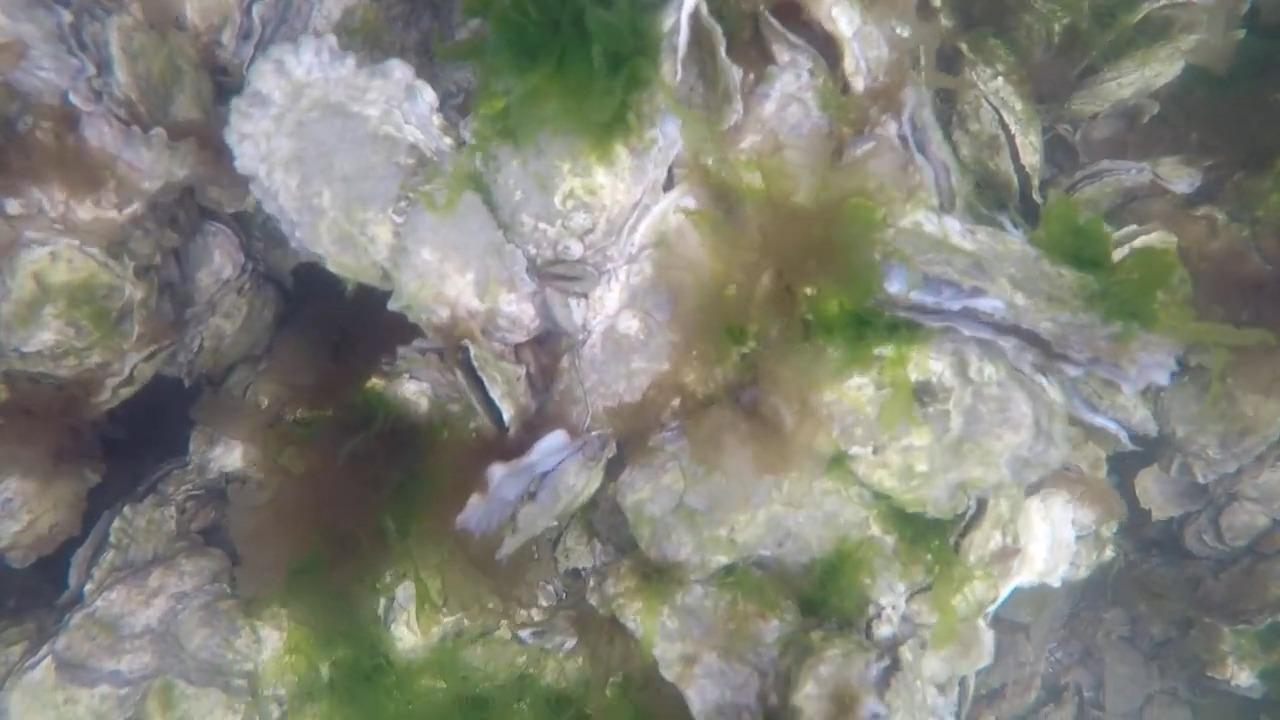Oyster: (223, 43, 529, 336), (221, 26, 464, 298), (870, 252, 1182, 441), (466, 34, 692, 284), (617, 386, 886, 588), (827, 327, 1072, 528), (8, 543, 223, 719), (611, 559, 798, 720), (66, 452, 227, 601), (0, 236, 146, 386), (1141, 340, 1280, 491), (452, 427, 607, 556), (566, 272, 693, 429), (459, 436, 616, 549), (2, 395, 105, 566), (948, 44, 1042, 220), (97, 8, 217, 136), (984, 487, 1098, 608), (609, 434, 707, 562), (1060, 38, 1198, 120), (806, 0, 912, 105), (0, 3, 97, 115), (595, 152, 680, 275), (663, 2, 740, 124), (898, 81, 966, 219), (1137, 0, 1249, 76), (1065, 338, 1190, 405), (227, 204, 314, 299), (880, 261, 1008, 324), (456, 345, 536, 442), (229, 2, 324, 83), (757, 4, 833, 94), (457, 336, 522, 434), (1131, 455, 1212, 526), (110, 336, 193, 403), (550, 506, 615, 589), (530, 429, 608, 498), (1059, 385, 1140, 449), (61, 10, 123, 93), (860, 578, 931, 647), (1207, 484, 1278, 551), (1062, 158, 1165, 203), (1128, 554, 1205, 607), (188, 216, 247, 283), (1142, 154, 1217, 197), (1110, 228, 1185, 268), (949, 493, 989, 556), (671, 6, 699, 88), (1041, 128, 1082, 182), (1246, 218, 1280, 273), (863, 650, 898, 700), (954, 671, 975, 717)
